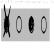correct: (28, 14, 35, 35)
not correct: (2, 2, 12, 40)
